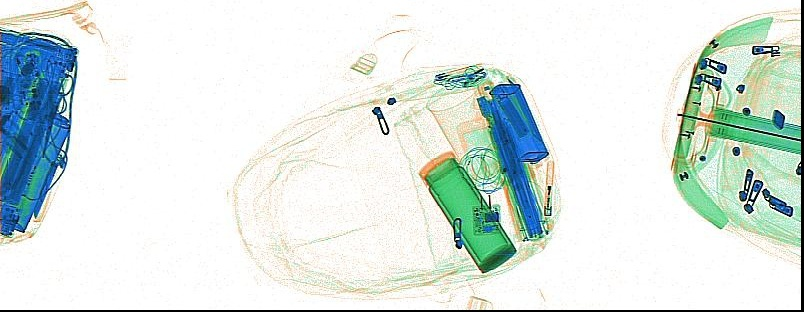lighter: (542, 159, 554, 216)
zippooil: (488, 81, 548, 163)
